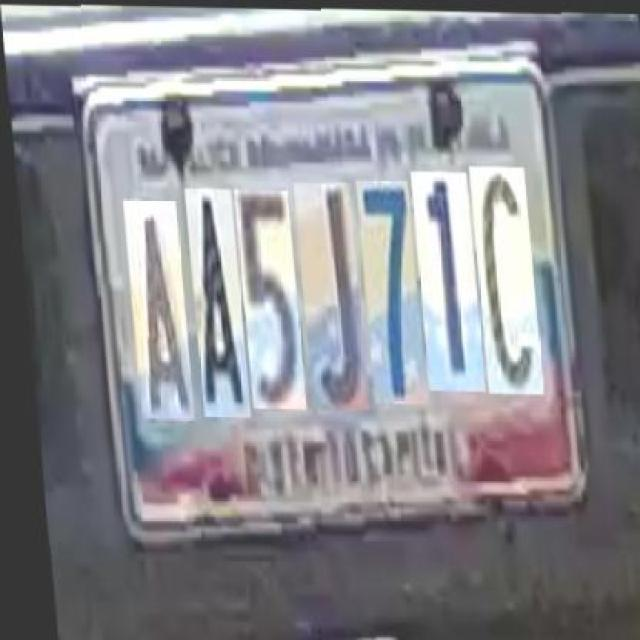1: (408, 170, 478, 390)
5: (231, 187, 298, 407)
7: (352, 179, 420, 403)
a: (119, 198, 187, 418), (181, 187, 244, 416)
c: (466, 165, 537, 392)
j: (290, 180, 361, 408)
